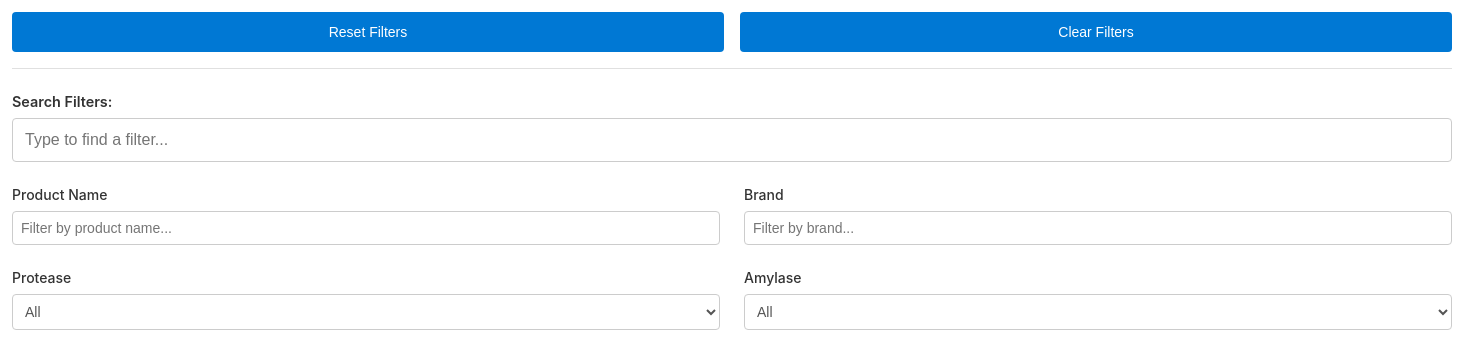
it: FilterDrawerContent › should show "no filters" message when search has no results
In the field labelled "Search Filters:": (732, 140) [12,118,1452,162], type "zzzzz"
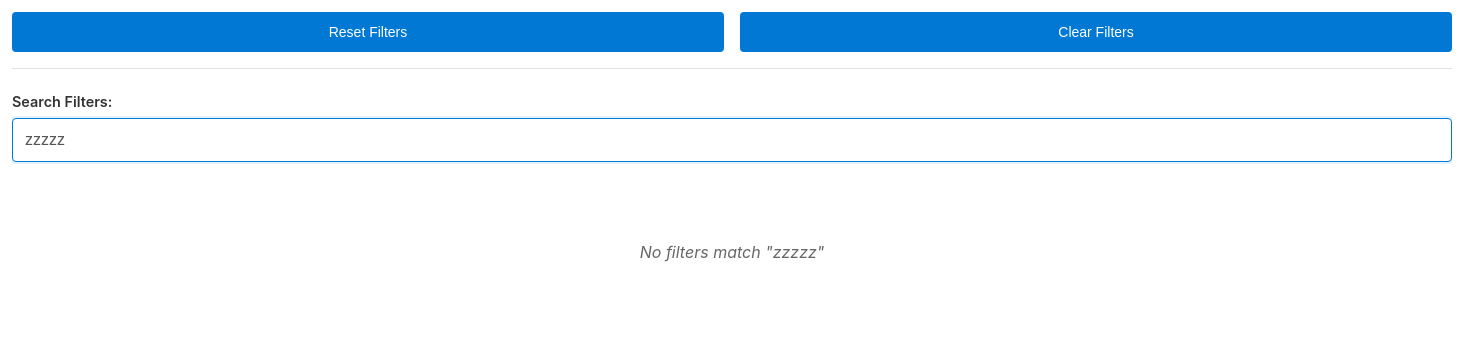
Expected: the text "No filters match \"zzzzz\"" is shown, [640,242,824,262]
